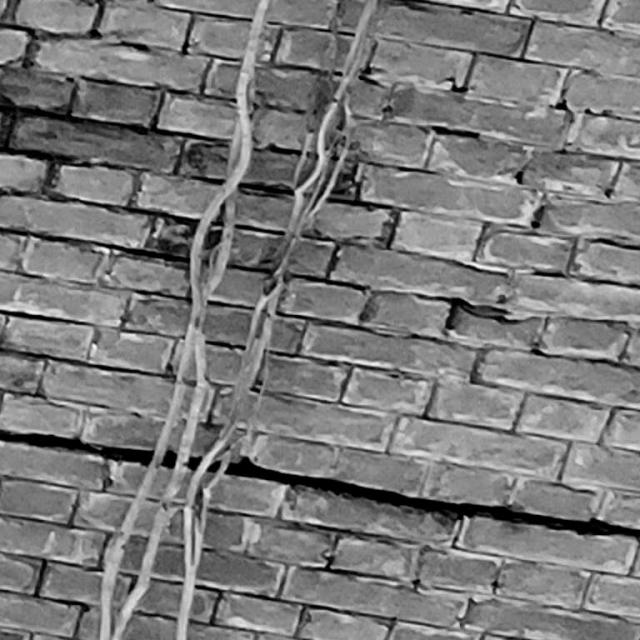crack: (1, 430, 640, 539)
